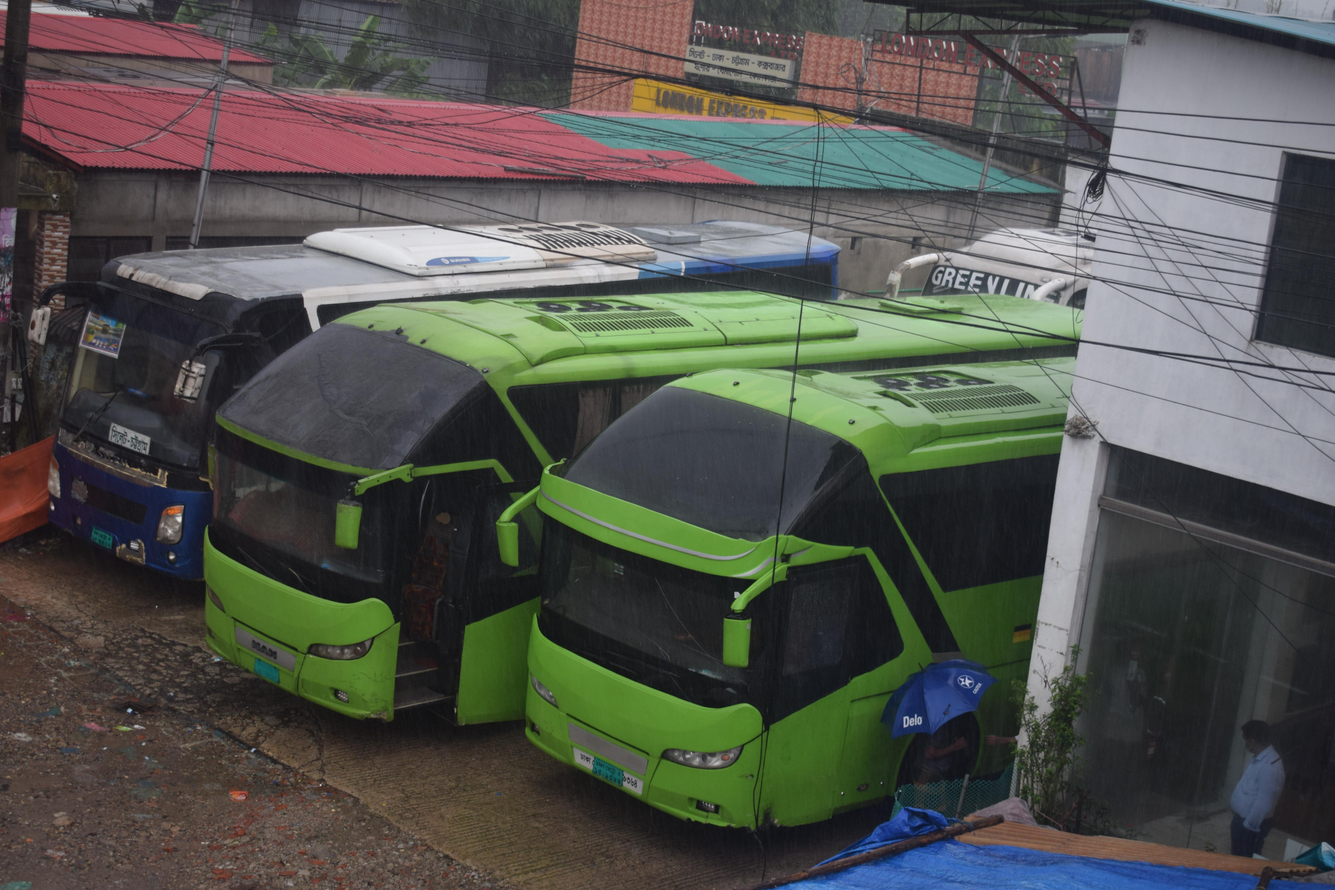Bus: (508, 335, 1083, 843), (161, 305, 569, 795), (31, 200, 263, 624)
